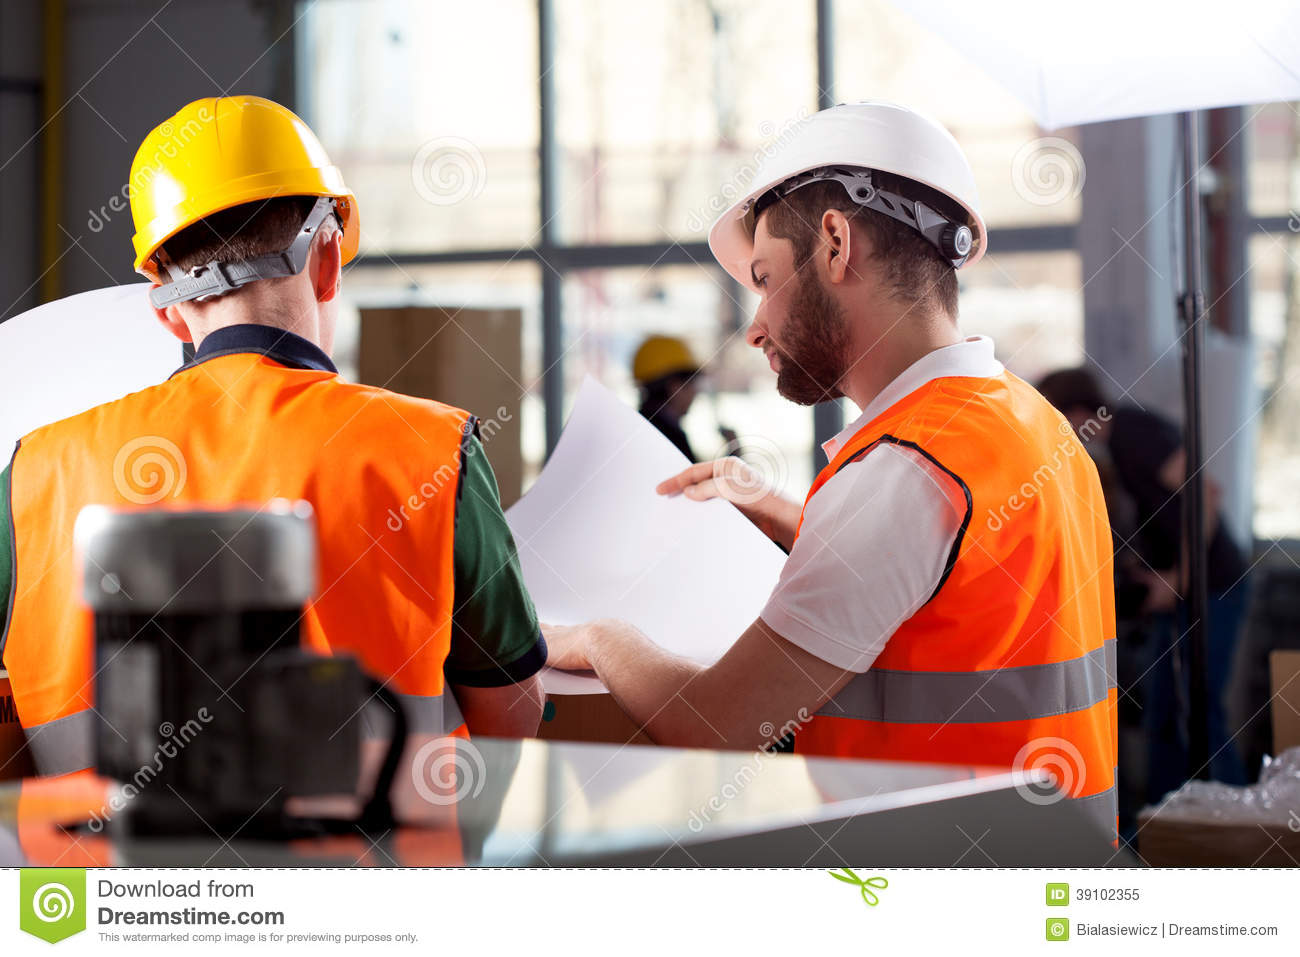Helmet: (697, 98, 998, 276), (119, 91, 374, 274)
